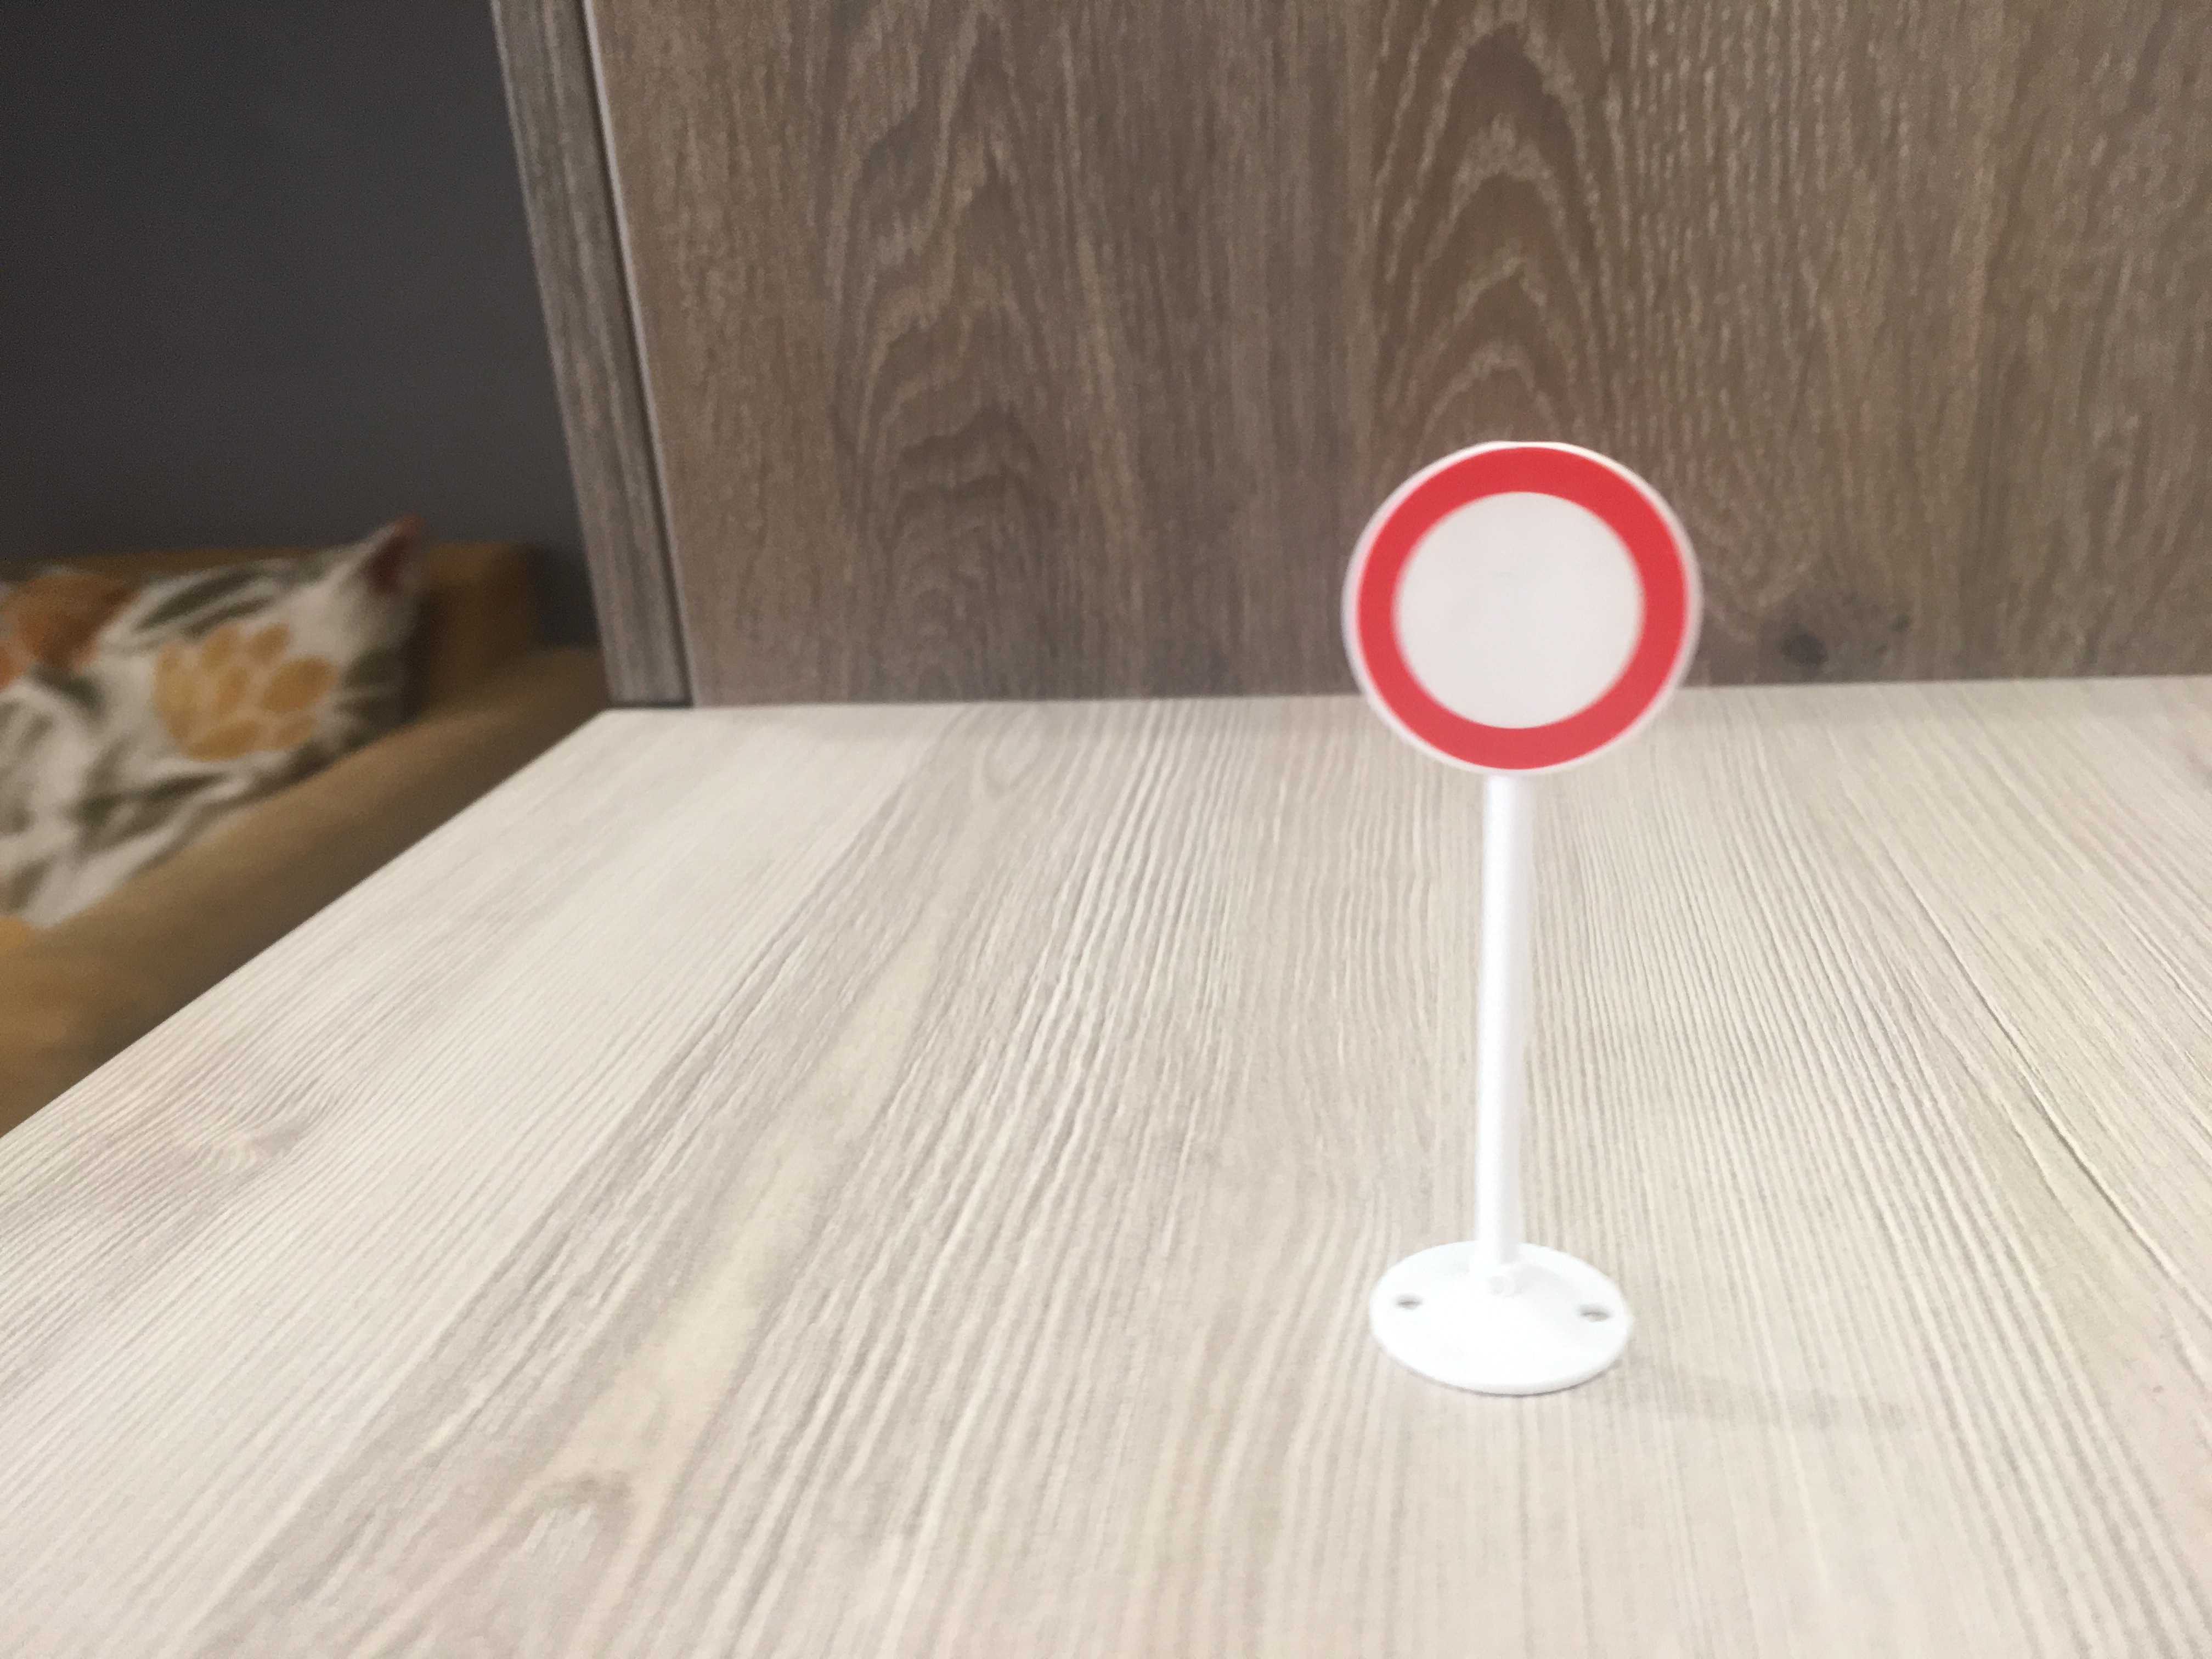noDrive: (1341, 444, 1703, 779)
